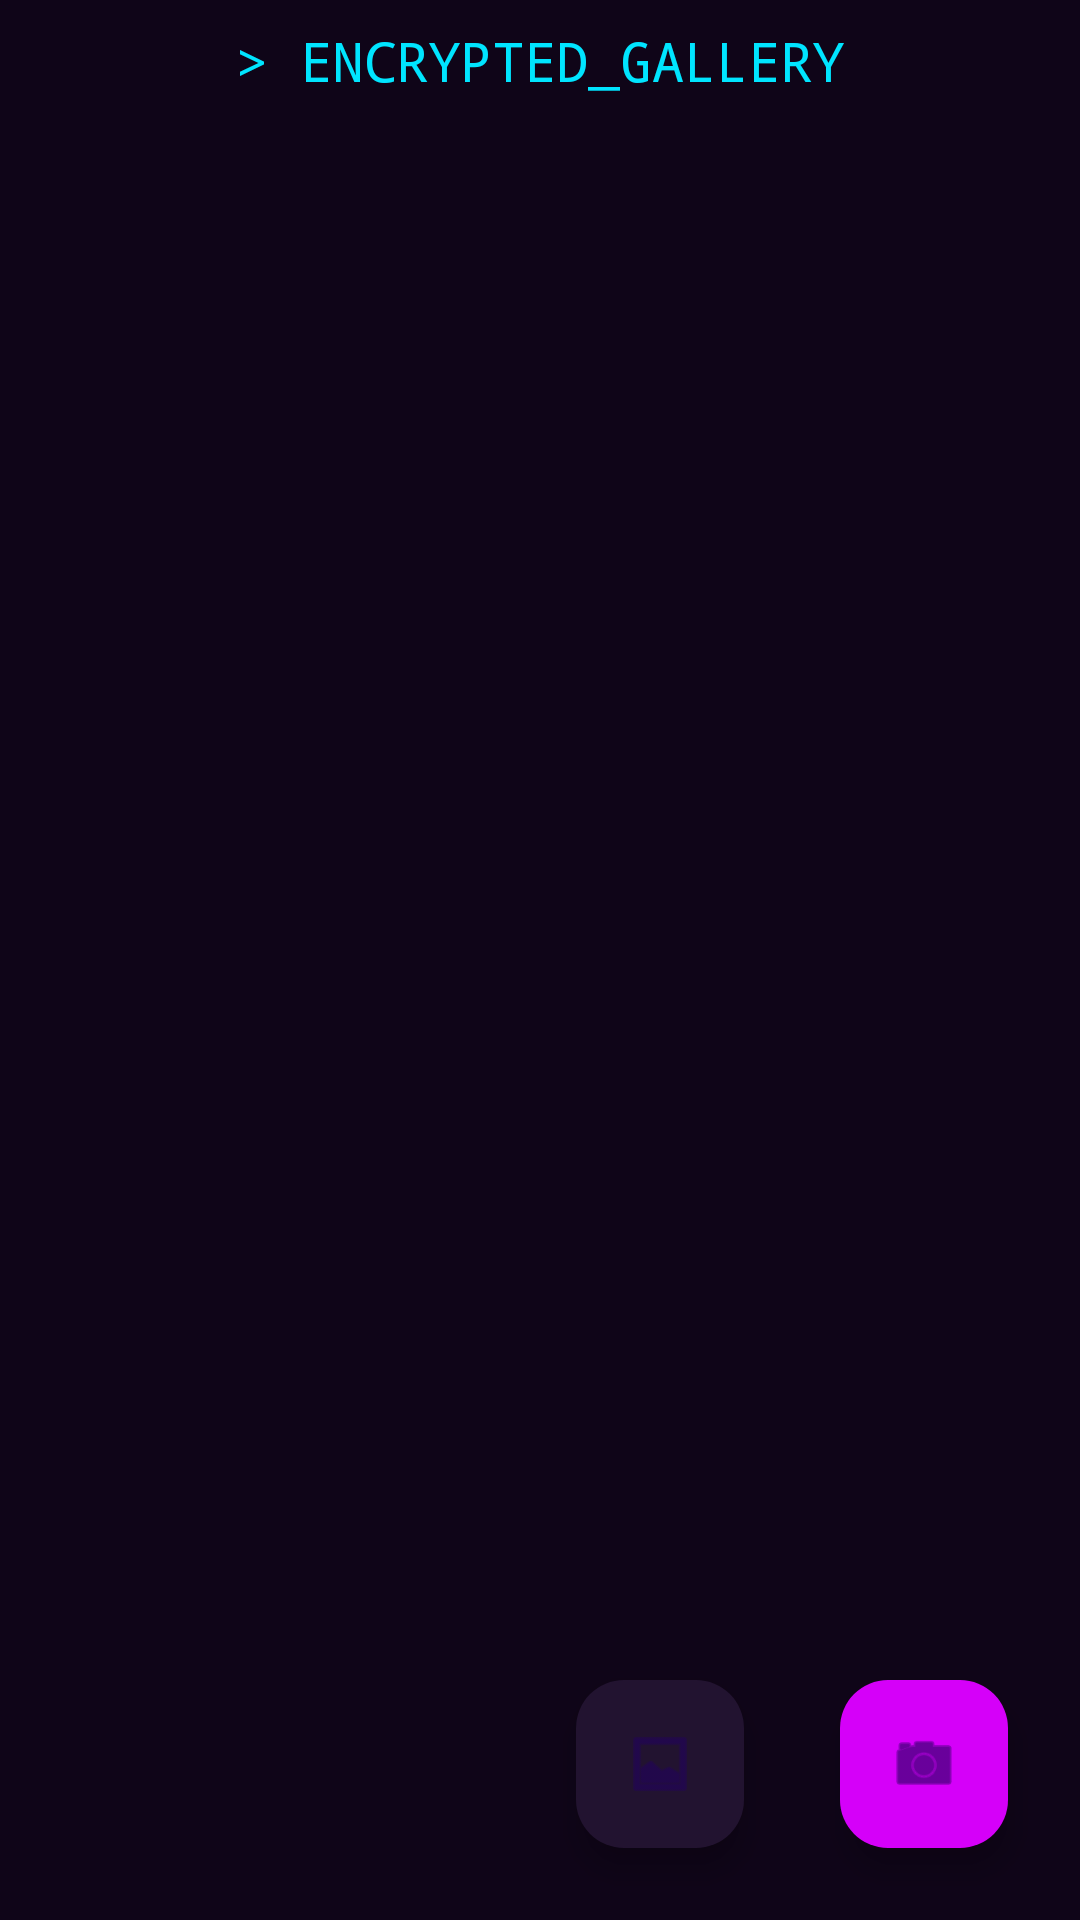

Icon click points for this 1080x1920 phone screenshot, format (x=x, y=y):
Import: (x=660, y=1764)
Take Photo: (x=924, y=1764)
